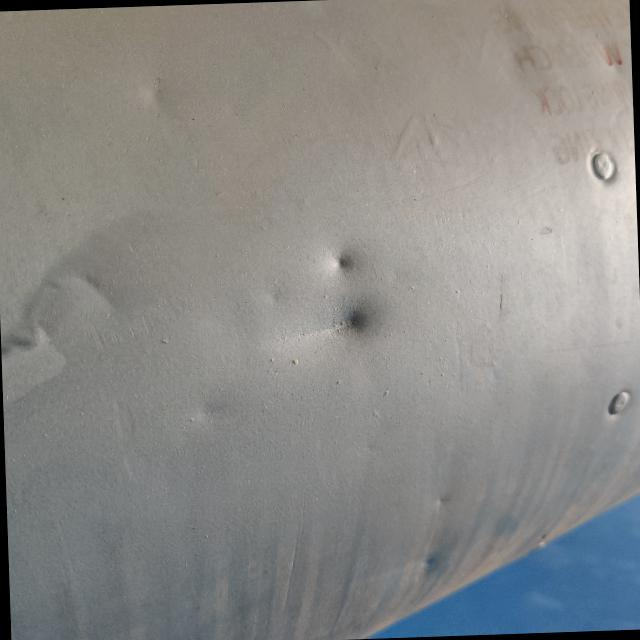dent: (0, 202, 144, 405), (274, 284, 384, 374), (307, 236, 371, 302), (401, 538, 456, 593)
